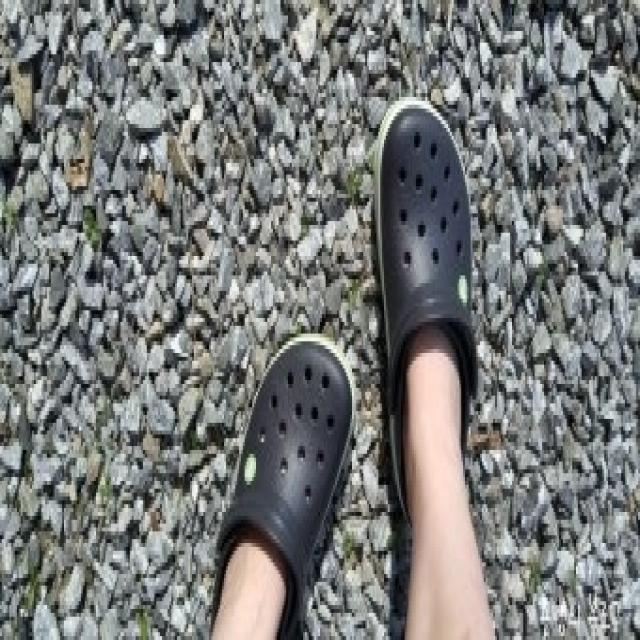no-boots: (356, 101, 491, 508), (194, 322, 354, 640)
